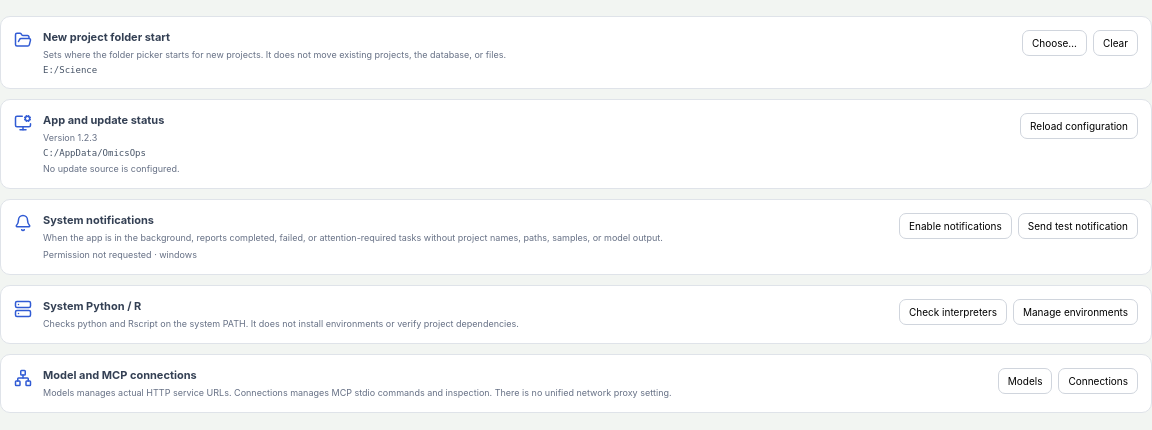
Test: GeneralAdvancedSettings › keeps notifications off by default and exposes the real permission result
Expected: the text "System notifications" is shown, [43,213,154,227]
Expected: the text "Permission not requested · windows" is shown, [43,249,197,260]
Click the button "Enable notifications": (955, 226) [899,213,1012,239]
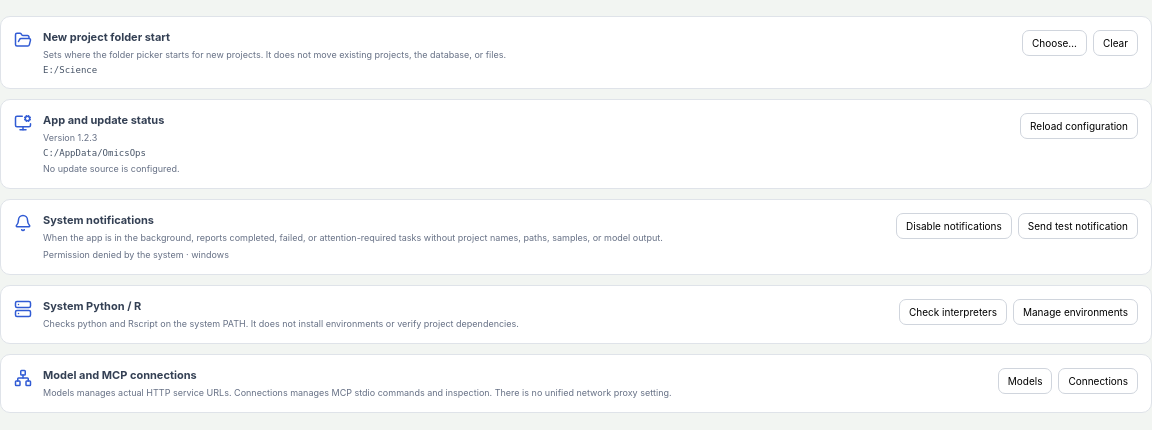
Now the text "Permission denied by the system · windows" is shown, box [43,249,229,260]
